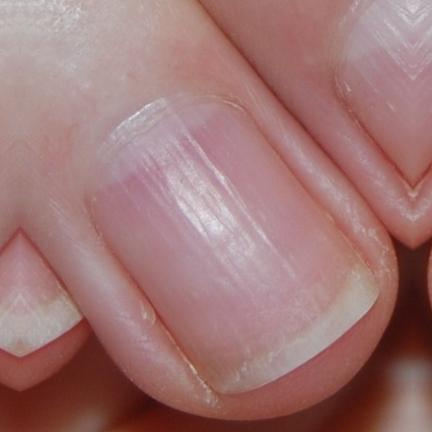Nail: (89, 90, 379, 395)
